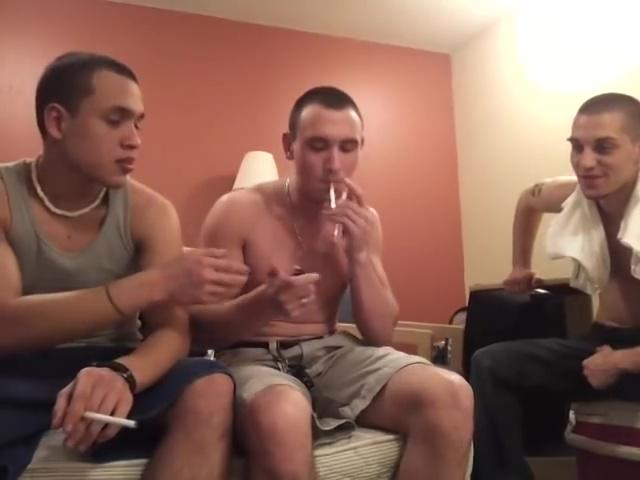cigarette: (79, 410, 143, 431), (327, 177, 338, 212)
